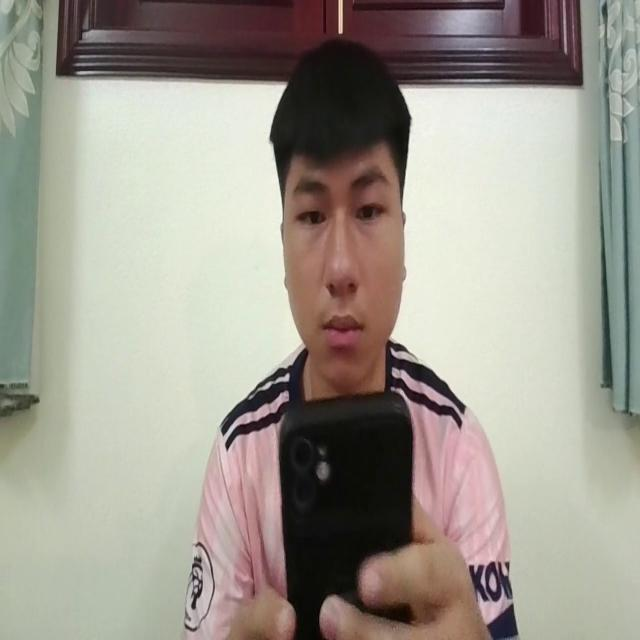phone: (277, 385, 414, 640)
student: (190, 30, 515, 640)
